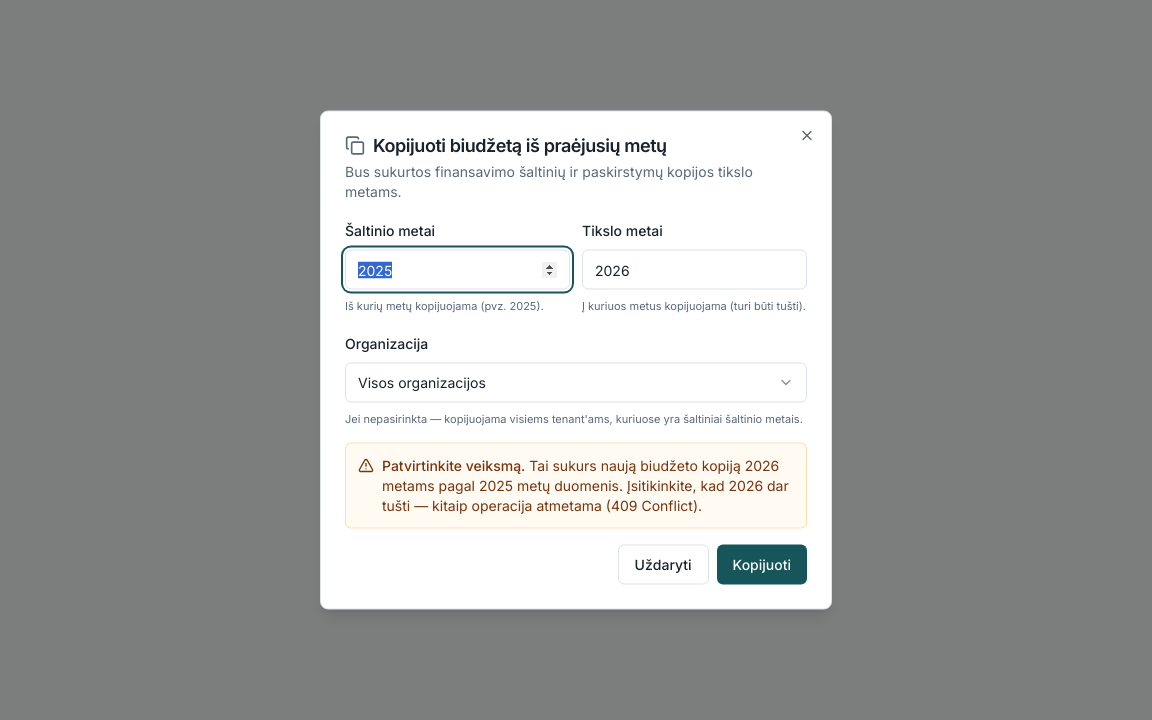
Test: CopyBudgetDialog (Iter 15, F16) › 409 Conflict iš serverio rodomas LT žinute vartotojui
Click the button with test id "copy-submit" at (762, 564), box [717,544,807,584]
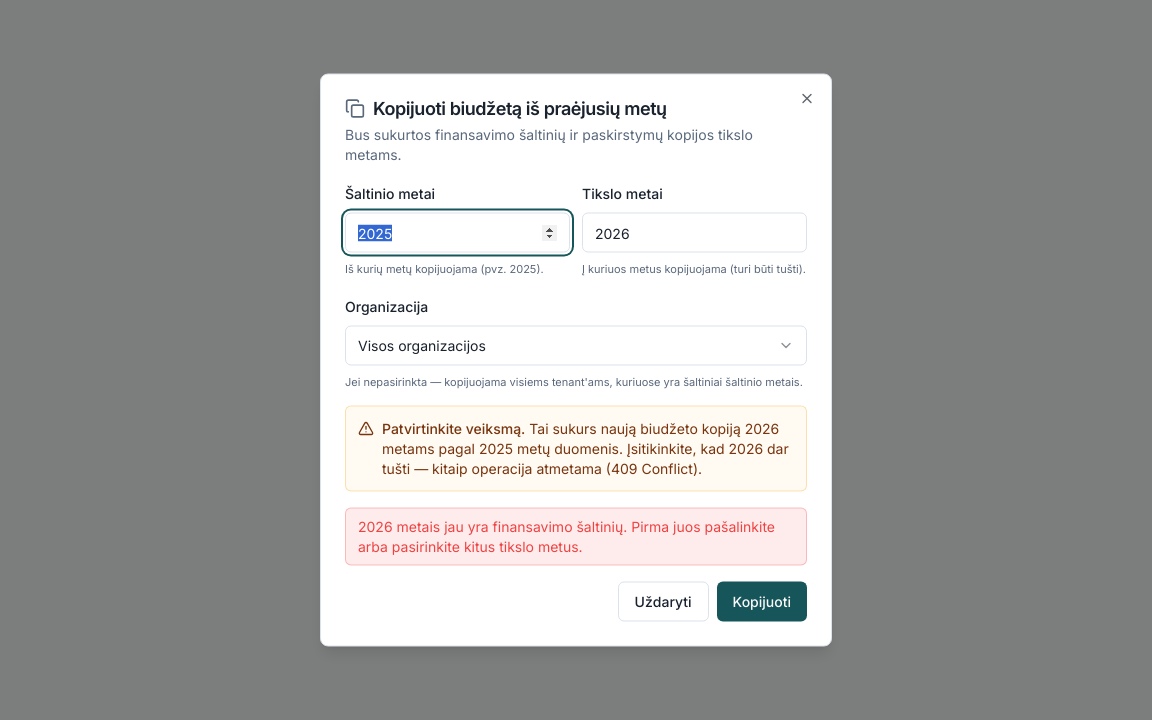
Expected: the message with test id "copy-dialog-error" is shown, [345,508,807,566]
Expected: the message with test id "copy-dialog-error" shows "2026 metais jau yra finansavimo šaltinių", [358,518,775,554]
